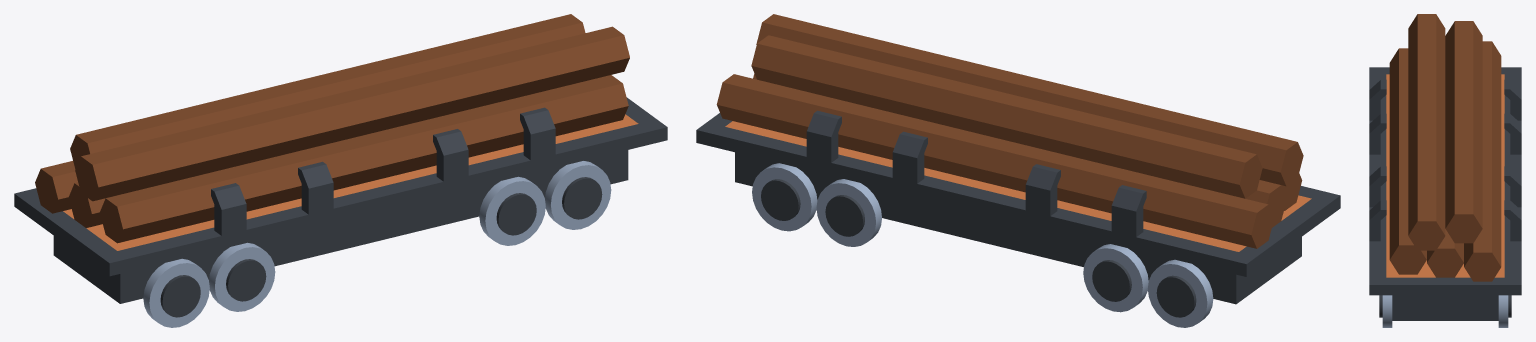
Rendered from trainWagonFlat.fbx.
3 views of the same model, side by side, from view 1: azimuth 30°, elevation 25°; view 2: azimuth 150°, elevation 25°; view 3: azimuth 270°, elevation 25° (orthographic). The views are drawn at different scales.
Visible parts, largest first — view 1: log (×5), trainWagonFlat; view 2: log (×4), trainWagonFlat; view 3: log (×5), trainWagonFlat.
Part boxes in pixels (left/top/right/bottom): log (×5): left=35, top=14, right=629, bottom=243; trainWagonFlat: left=14, top=97, right=667, bottom=327; log (×4): left=716, top=14, right=1303, bottom=248; trainWagonFlat: left=696, top=110, right=1340, bottom=327; log (×5): left=1389, top=14, right=1501, bottom=281; trainWagonFlat: left=1369, top=67, right=1521, bottom=327.
Bounding box in the file's own units: 4.48 × 1.25 × 1.33.
